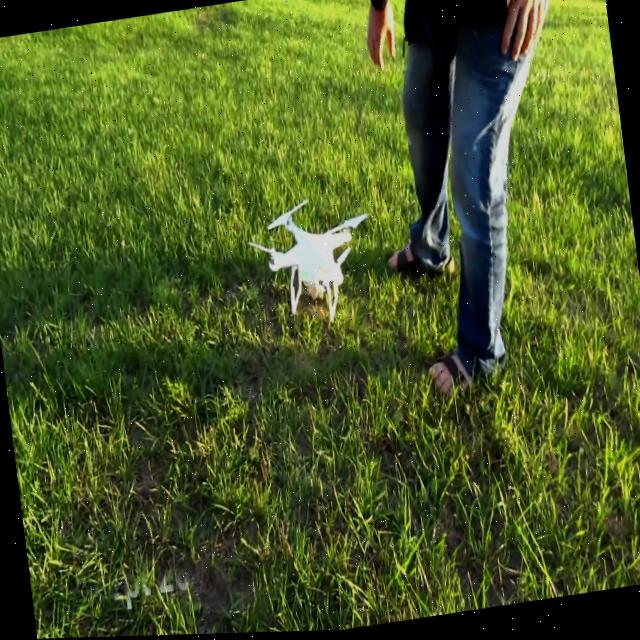drone: (247, 192, 381, 333)
